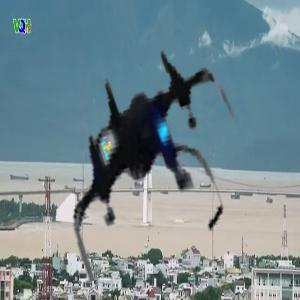drone: (40, 53, 248, 261)
